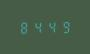eight: (18, 20, 30, 34)
four: (31, 20, 43, 34), (44, 20, 56, 33)
nine: (57, 19, 69, 33)
